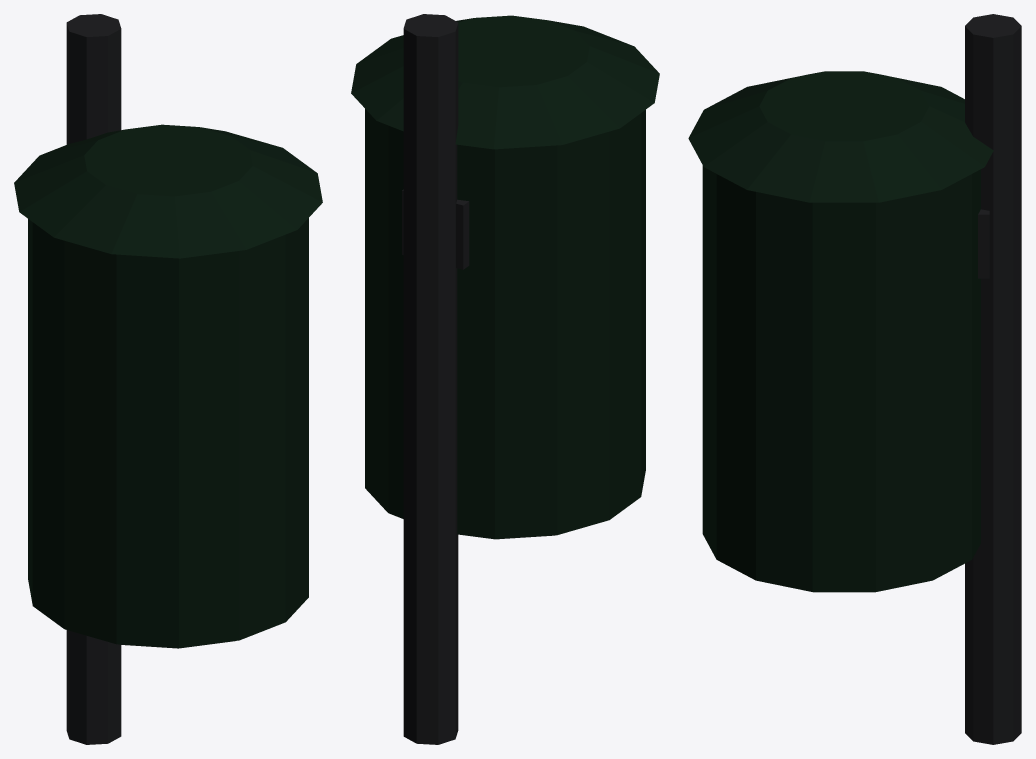
The model's file is kanta-riva.glb.
3 views of the same model, side by side, from view 1: azimuth 30°, elevation 25°; view 2: azimuth 150°, elevation 25°; view 3: azimuth 270°, elevation 25° (orthographic).
Visible parts, largest first — view 1: kanta-riva; view 2: kanta-riva; view 3: kanta-riva.
Boxes of the visible parts, x1,y1,x2,y2 form: kanta-riva: (14, 14, 322, 744); kanta-riva: (351, 14, 659, 744); kanta-riva: (688, 14, 1021, 744).
Bounding box in the file's own units: 0.429 × 1.1 × 0.47.
Materials: 1 (1 with a texture image).
